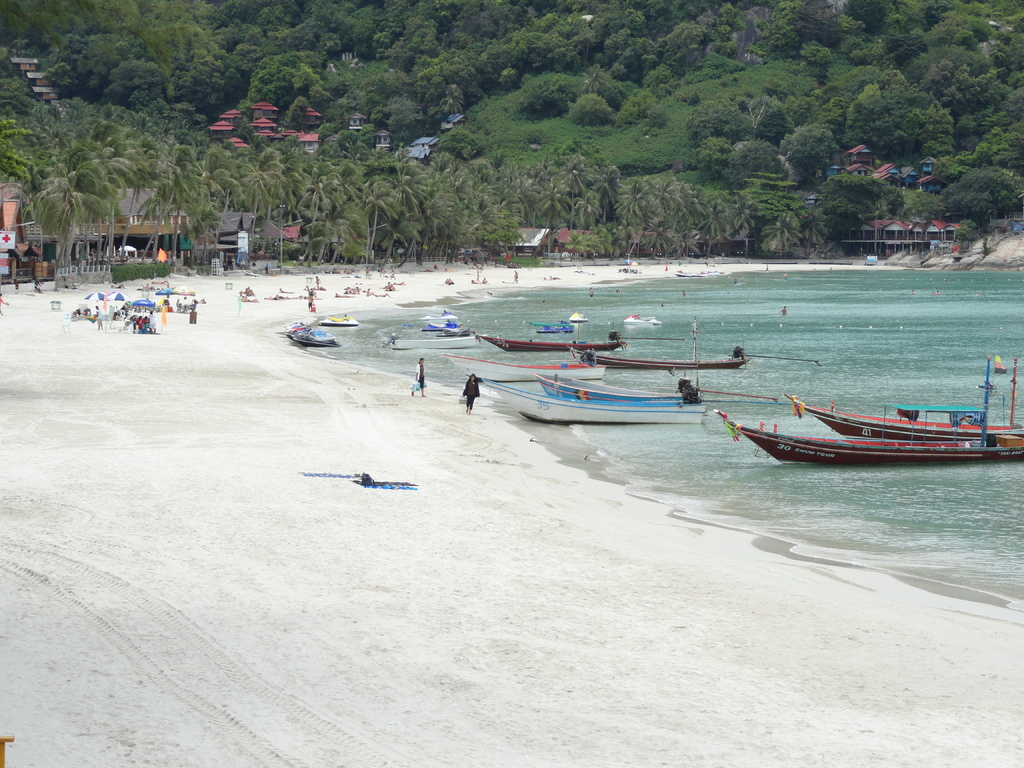boat: (708, 402, 1016, 472), (782, 377, 1024, 447), (473, 375, 714, 433), (533, 364, 703, 408), (465, 321, 636, 361), (439, 347, 610, 384), (379, 309, 490, 357)
